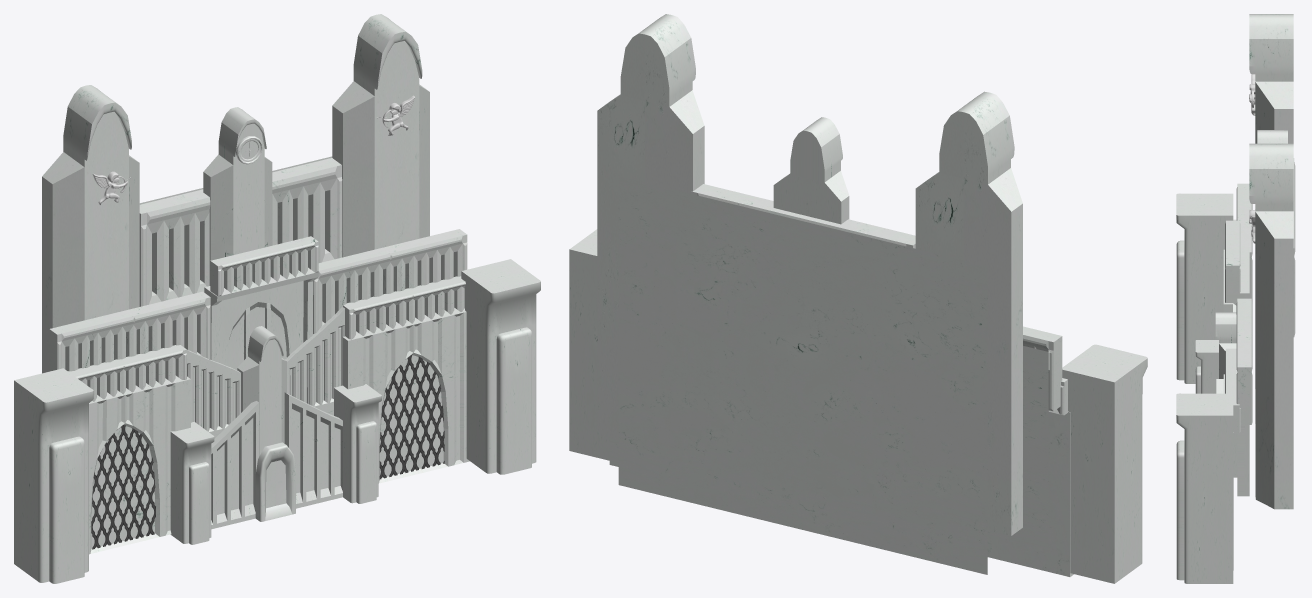
Rendered from kirkkofinal2.fbx.
3 renders of one model, left to right at view 1: azimuth 30°, elevation 25°; view 2: azimuth 150°, elevation 25°; view 3: azimuth 270°, elevation 25°, orthographic. The views are drawn at different scales.
Visible parts, largest first — view 1: Box049, Box036, Box044, Box043, Box018, Box004, Box022, Box050, Box045, Box017, Box006, Box003 (+13 smaller); view 2: Plane002, Box049, Box036, Box044, Box043, Box045, Plane003, Box022, Box018, Box050; view 3: Box036, Box043, Box044, Box049, Box017, Box006, Box040, Box016, Box042, Box050, Box014, Box018 (+4 smaller).
Part boxes in pixels (x1,y1,x2,y2): Box049: [42, 85, 139, 373]; Box036: [332, 14, 429, 257]; Box044: [14, 368, 93, 583]; Box043: [461, 259, 540, 474]; Box018: [139, 158, 342, 306]; Box004: [342, 311, 469, 483]; Box022: [89, 376, 190, 554]; Box050: [49, 291, 210, 371]; Box045: [203, 107, 272, 285]; Box017: [313, 229, 467, 333]; Box006: [204, 272, 318, 427]; Box003: [284, 392, 342, 508]; Plane002: [618, 176, 987, 574]; Box049: [915, 91, 1022, 535]; Box036: [597, 14, 704, 439]; Box044: [1062, 344, 1147, 583]; Box043: [569, 229, 609, 460]; Box045: [773, 117, 849, 224]; Plane003: [609, 346, 1048, 548]; Box022: [987, 411, 1073, 576]; Box018: [691, 184, 915, 248]; Box050: [1023, 326, 1062, 411]; Box036: [1249, 143, 1293, 509]; Box043: [1176, 393, 1233, 583]; Box044: [1176, 193, 1233, 383]; Box049: [1249, 14, 1293, 143]; Box017: [1236, 298, 1252, 424]; Box006: [1226, 248, 1249, 496]; Box040: [1195, 340, 1218, 393]; Box016: [1225, 220, 1240, 293]; Box042: [1215, 312, 1237, 477]; Box050: [1236, 183, 1252, 303]; Box014: [1225, 348, 1240, 432]; Box018: [1293, 158, 1295, 336].
Bounding box in the file's own units: 720 × 600 × 166.
